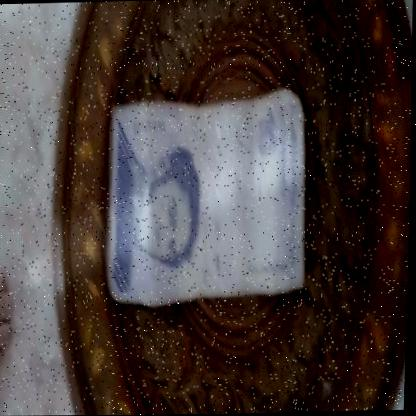ten-front-vef: (105, 89, 310, 307)
